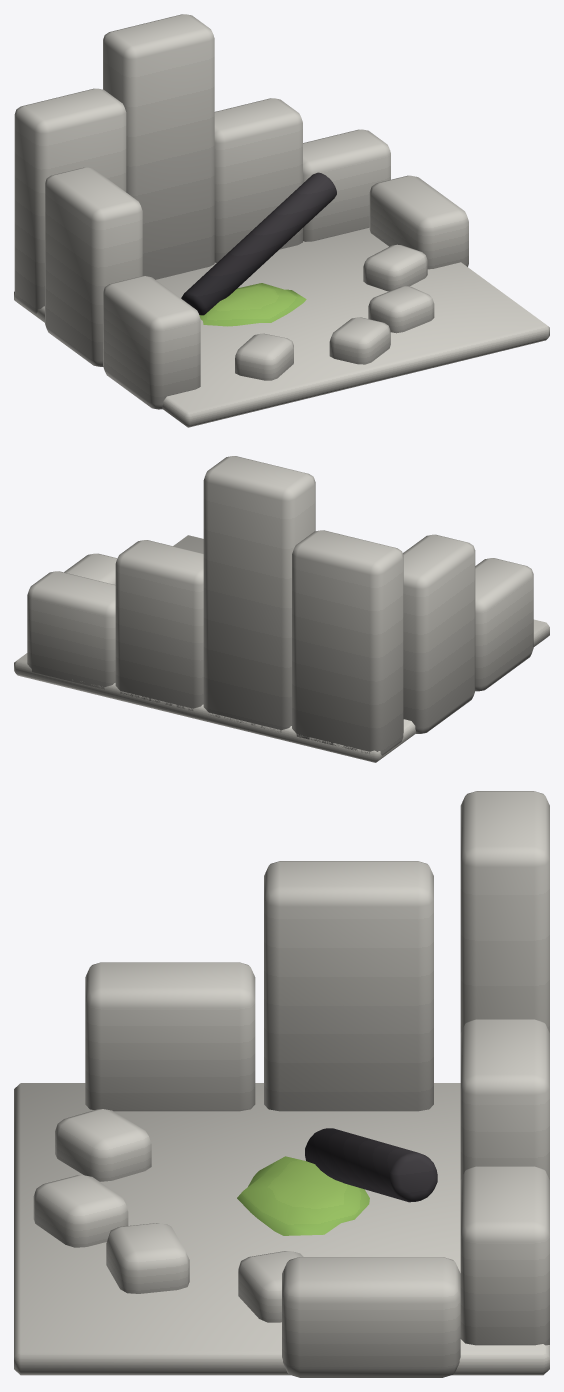
The model's file is ruin.glb.
3 renders of one model, top to bottom at view 1: azimuth 30°, elevation 25°; view 2: azimuth 150°, elevation 25°; view 3: azimuth 270°, elevation 25°, orthographic. The views are drawn at different scales.
Visible parts, largest first — view 1: ruin; view 2: ruin; view 3: ruin.
Part boxes in pixels (x1,y1,x2,y2): ruin: [14, 14, 549, 427]; ruin: [14, 456, 549, 762]; ruin: [14, 791, 549, 1377].
Bounding box in the file's own units: 1.52 × 0.9713 × 1.2.
Materials: 1 (1 with a texture image).
